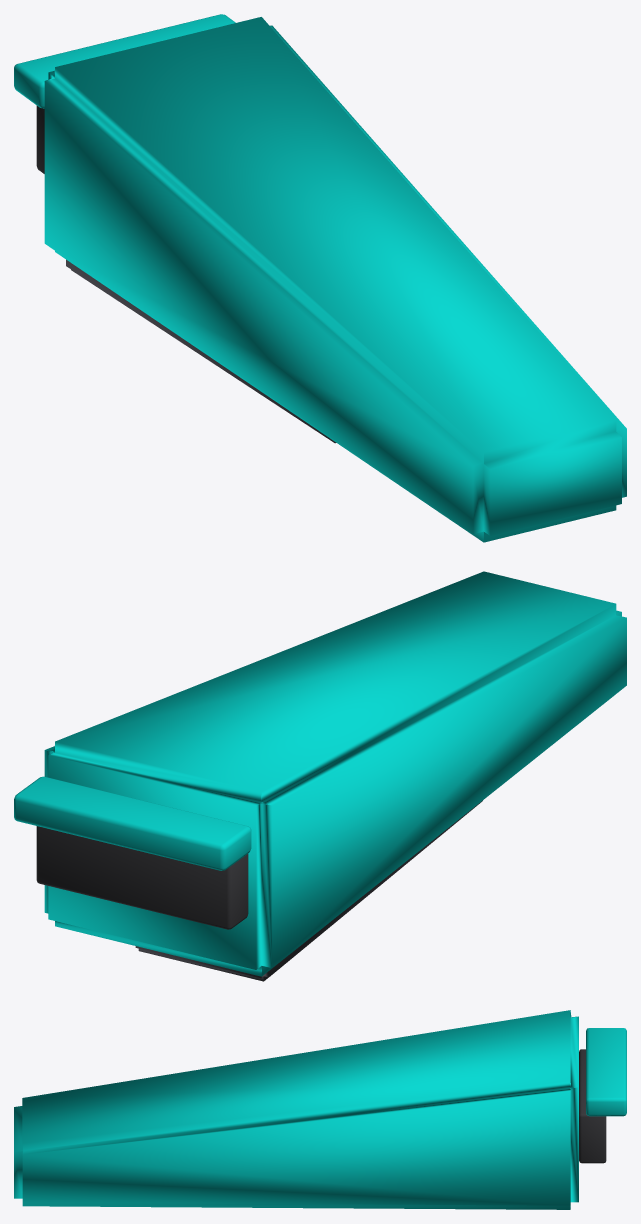
Rendered from f1_sidepod_l_downwash.glb.
The picture shows the model from 3 angles, top to bottom: view 1: azimuth 30°, elevation 25°; view 2: azimuth 150°, elevation 25°; view 3: azimuth 270°, elevation 25°; orthographic projection. The views are drawn at different scales.
Parts seen in each view (by area): view 1: F1_Sidepod_L_Downwash; view 2: F1_Sidepod_L_Downwash; view 3: F1_Sidepod_L_Downwash.
Boxes of the visible parts, <box> form: F1_Sidepod_L_Downwash: <box>14,14,626,542</box>; F1_Sidepod_L_Downwash: <box>14,571,626,981</box>; F1_Sidepod_L_Downwash: <box>14,1010,626,1209</box>.
Bounding box in the file's own units: 0.5373 × 0.4561 × 1.79.
